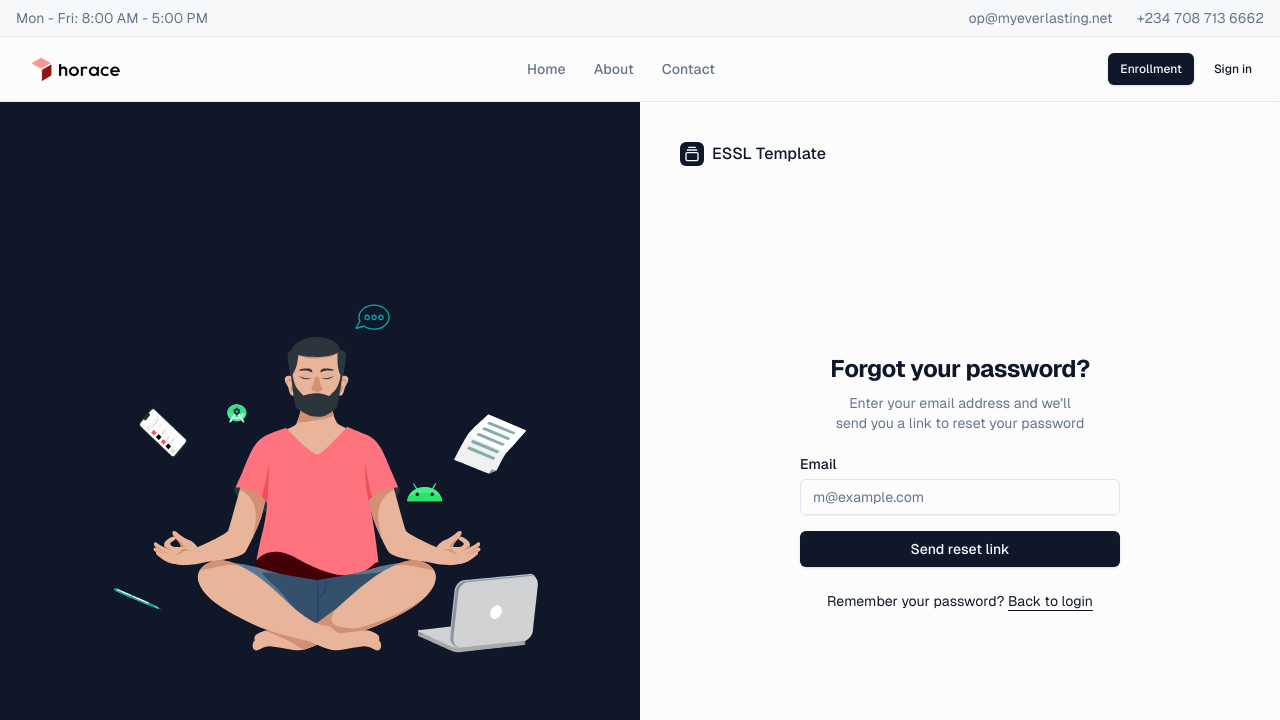
Test: Reset password page › Forgot password flow (no token) › shows validation error for invalid email
Type "not-valid" into the field named "email" at point(960, 497), box [800,479,1120,515]
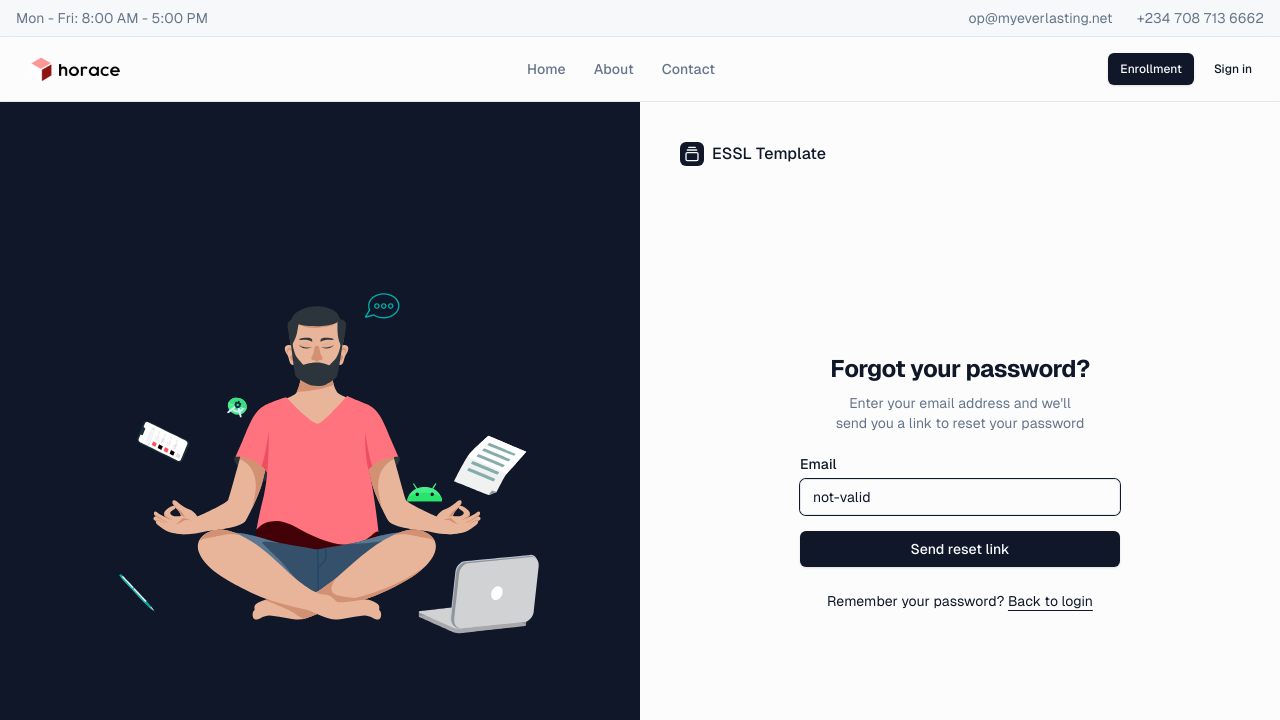
Click the button "Send reset link" at point(960, 549), box [800,531,1120,567]
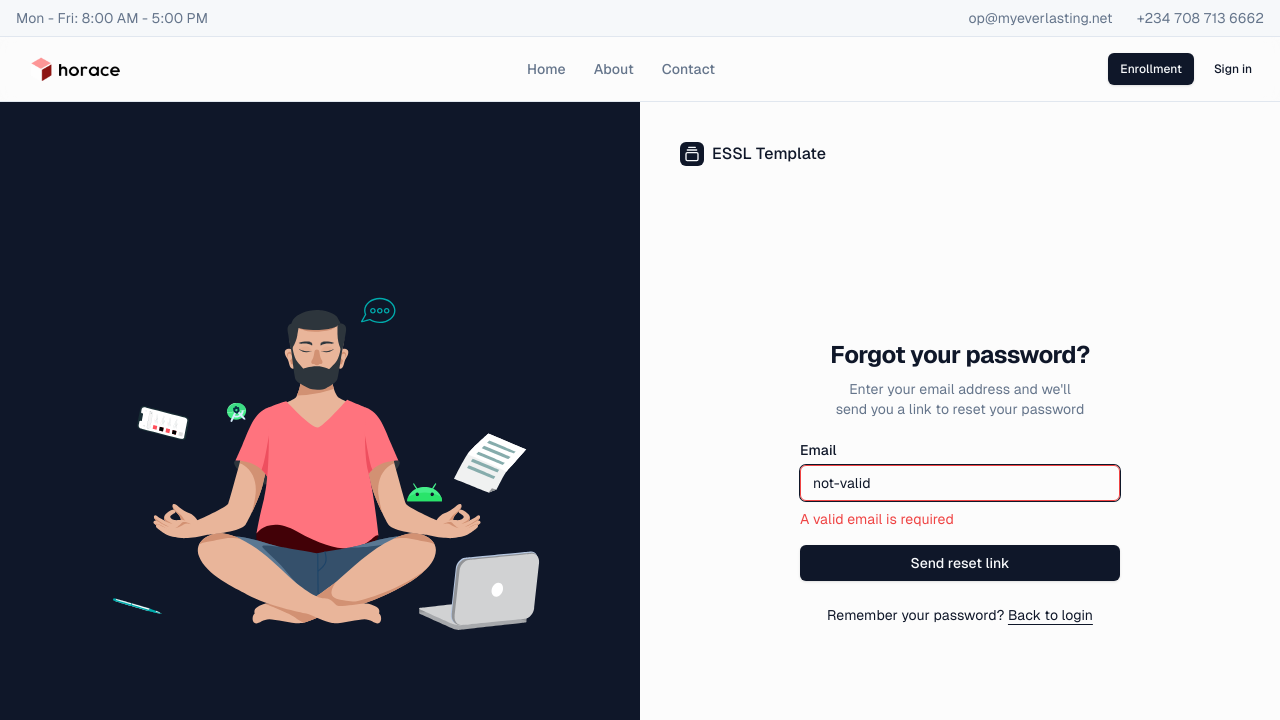
Check: the text "A valid email is required" is shown, box [800,511,954,527]
